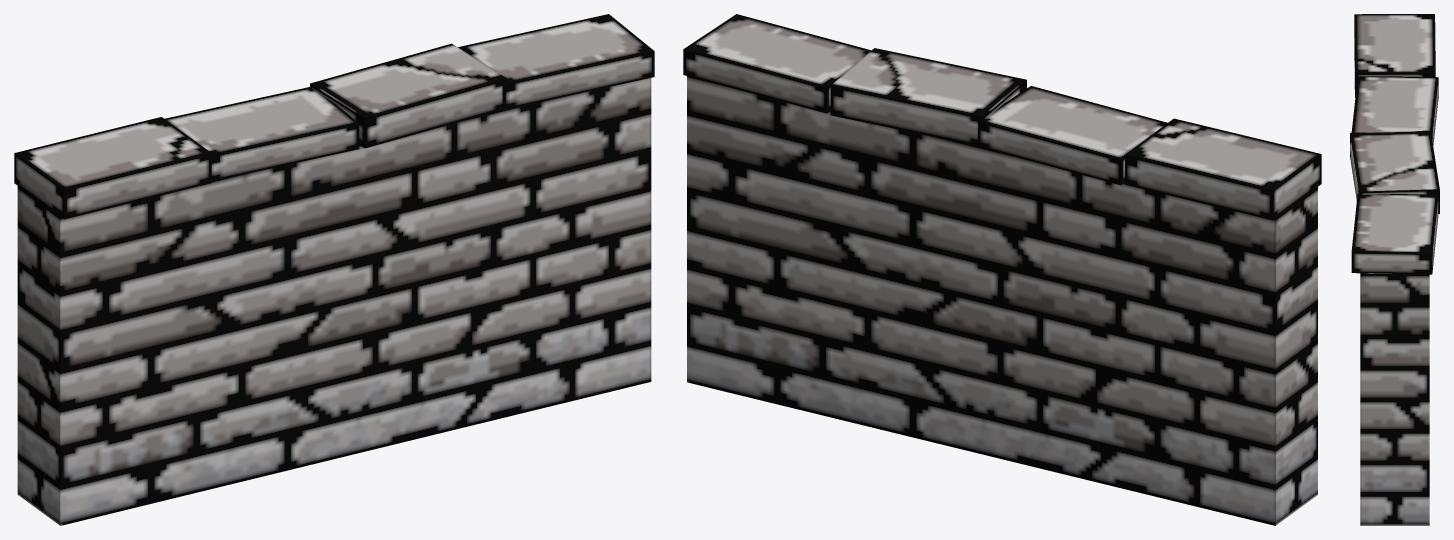
The model's file is deco_winter_wallLongTall.FBX.
3 renders of one model, left to right at view 1: azimuth 30°, elevation 25°; view 2: azimuth 150°, elevation 25°; view 3: azimuth 270°, elevation 25°, orthographic. The views are drawn at different scales.
Parts seen in each view (by area): view 1: deco_winter_wallLongTall; view 2: deco_winter_wallLongTall; view 3: deco_winter_wallLongTall.
Part boxes in pixels (x1,y1,x2,y2): deco_winter_wallLongTall: (14, 14, 654, 525); deco_winter_wallLongTall: (683, 14, 1321, 525); deco_winter_wallLongTall: (1350, 14, 1439, 525).
Size of the model in its own units: 4.01 by 2.2 by 0.6448.
Materials: 1 (1 with a texture image).
